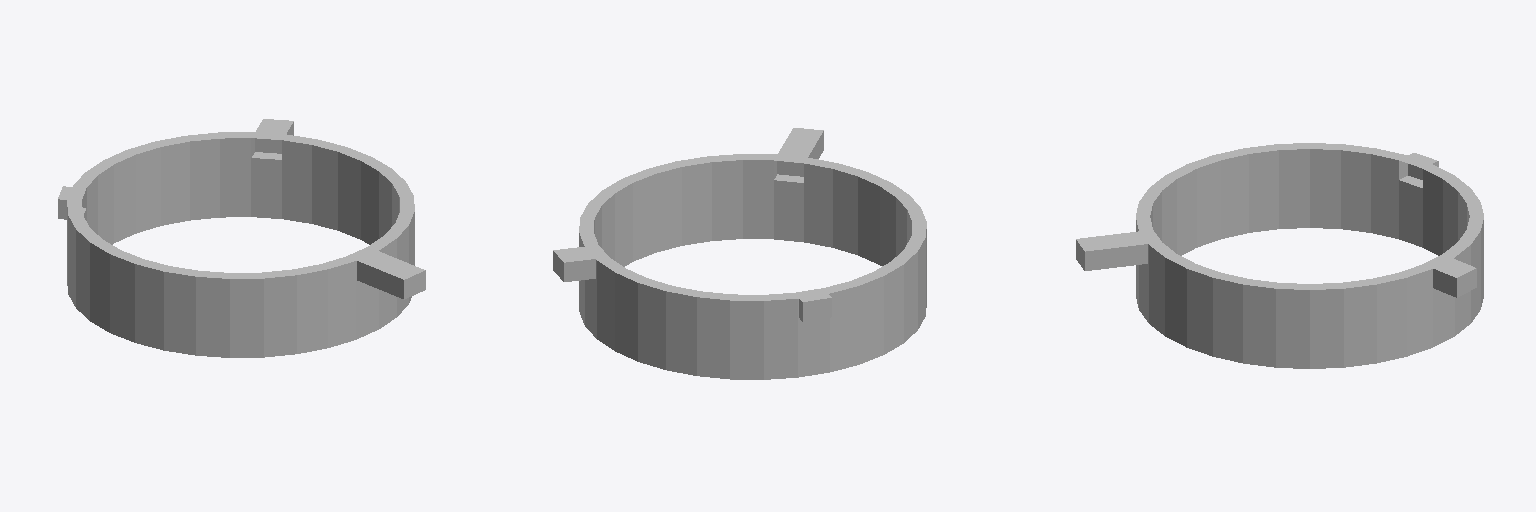
The model's file is Lvl2.obj.
3 renders of one model, left to right at view 1: azimuth 30°, elevation 25°; view 2: azimuth 150°, elevation 25°; view 3: azimuth 270°, elevation 25°, orthographic.
Visible parts, largest first — view 1: Lvl2; view 2: Lvl2; view 3: Lvl2.
Part boxes in pixels (x1,y1,x2,y2): Lvl2: (58, 119, 425, 357); Lvl2: (553, 128, 926, 379); Lvl2: (1076, 143, 1483, 368).
Size of the model in its own units: 120 by 30 by 141.